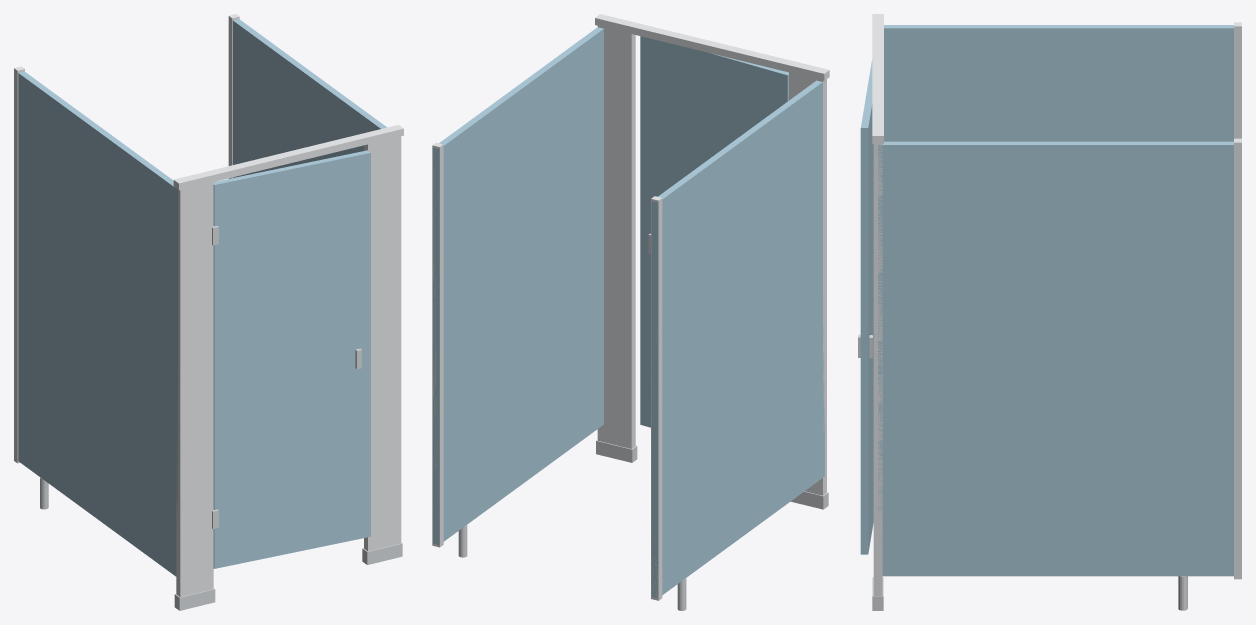
Rendered from toilet_room.fbx.
3 renders of one model, left to right at view 1: azimuth 30°, elevation 25°; view 2: azimuth 150°, elevation 25°; view 3: azimuth 270°, elevation 25°, orthographic. The views are drawn at different scales.
Visible parts, largest first — view 1: 05_CubicleStall_Intact_Mesh; view 2: 05_CubicleStall_Intact_Mesh; view 3: 05_CubicleStall_Intact_Mesh.
Part boxes in pixels (x1=…): 05_CubicleStall_Intact_Mesh: x1=14, y1=14, x2=403, y2=610; 05_CubicleStall_Intact_Mesh: x1=432, y1=14, x2=829, y2=610; 05_CubicleStall_Intact_Mesh: x1=858, y1=14, x2=1241, y2=610.
Size of the model in its own units: 108 by 196 by 143.
